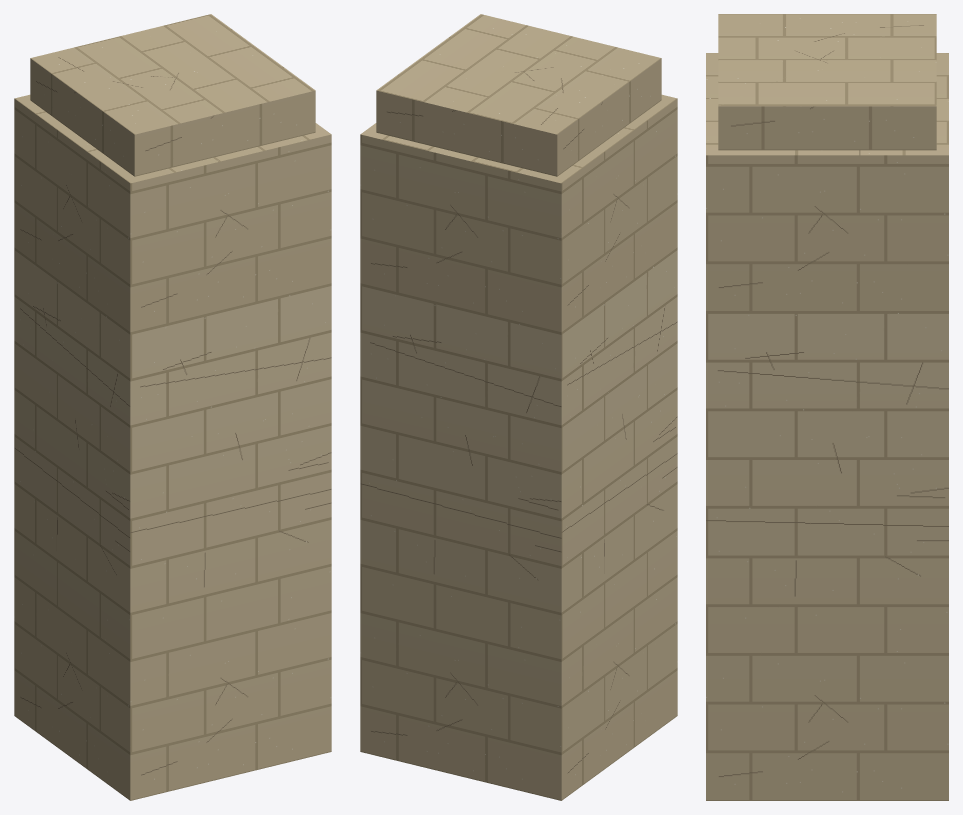
The model's file is pillar_broken.obj.
3 views of the same model, side by side, from view 1: azimuth 30°, elevation 25°; view 2: azimuth 150°, elevation 25°; view 3: azimuth 270°, elevation 25° (orthographic). The views are drawn at different scales.
Parts seen in each view (by area): view 1: pillar_broken; view 2: pillar_broken; view 3: pillar_broken.
Boxes of the visible parts, x1,y1,x2,y2 form: pillar_broken: (14, 14, 331, 800); pillar_broken: (360, 14, 677, 800); pillar_broken: (706, 14, 948, 800).
Size of the model in its own units: 0.45 by 1.41 by 0.45.
1 material, 1 textured.
